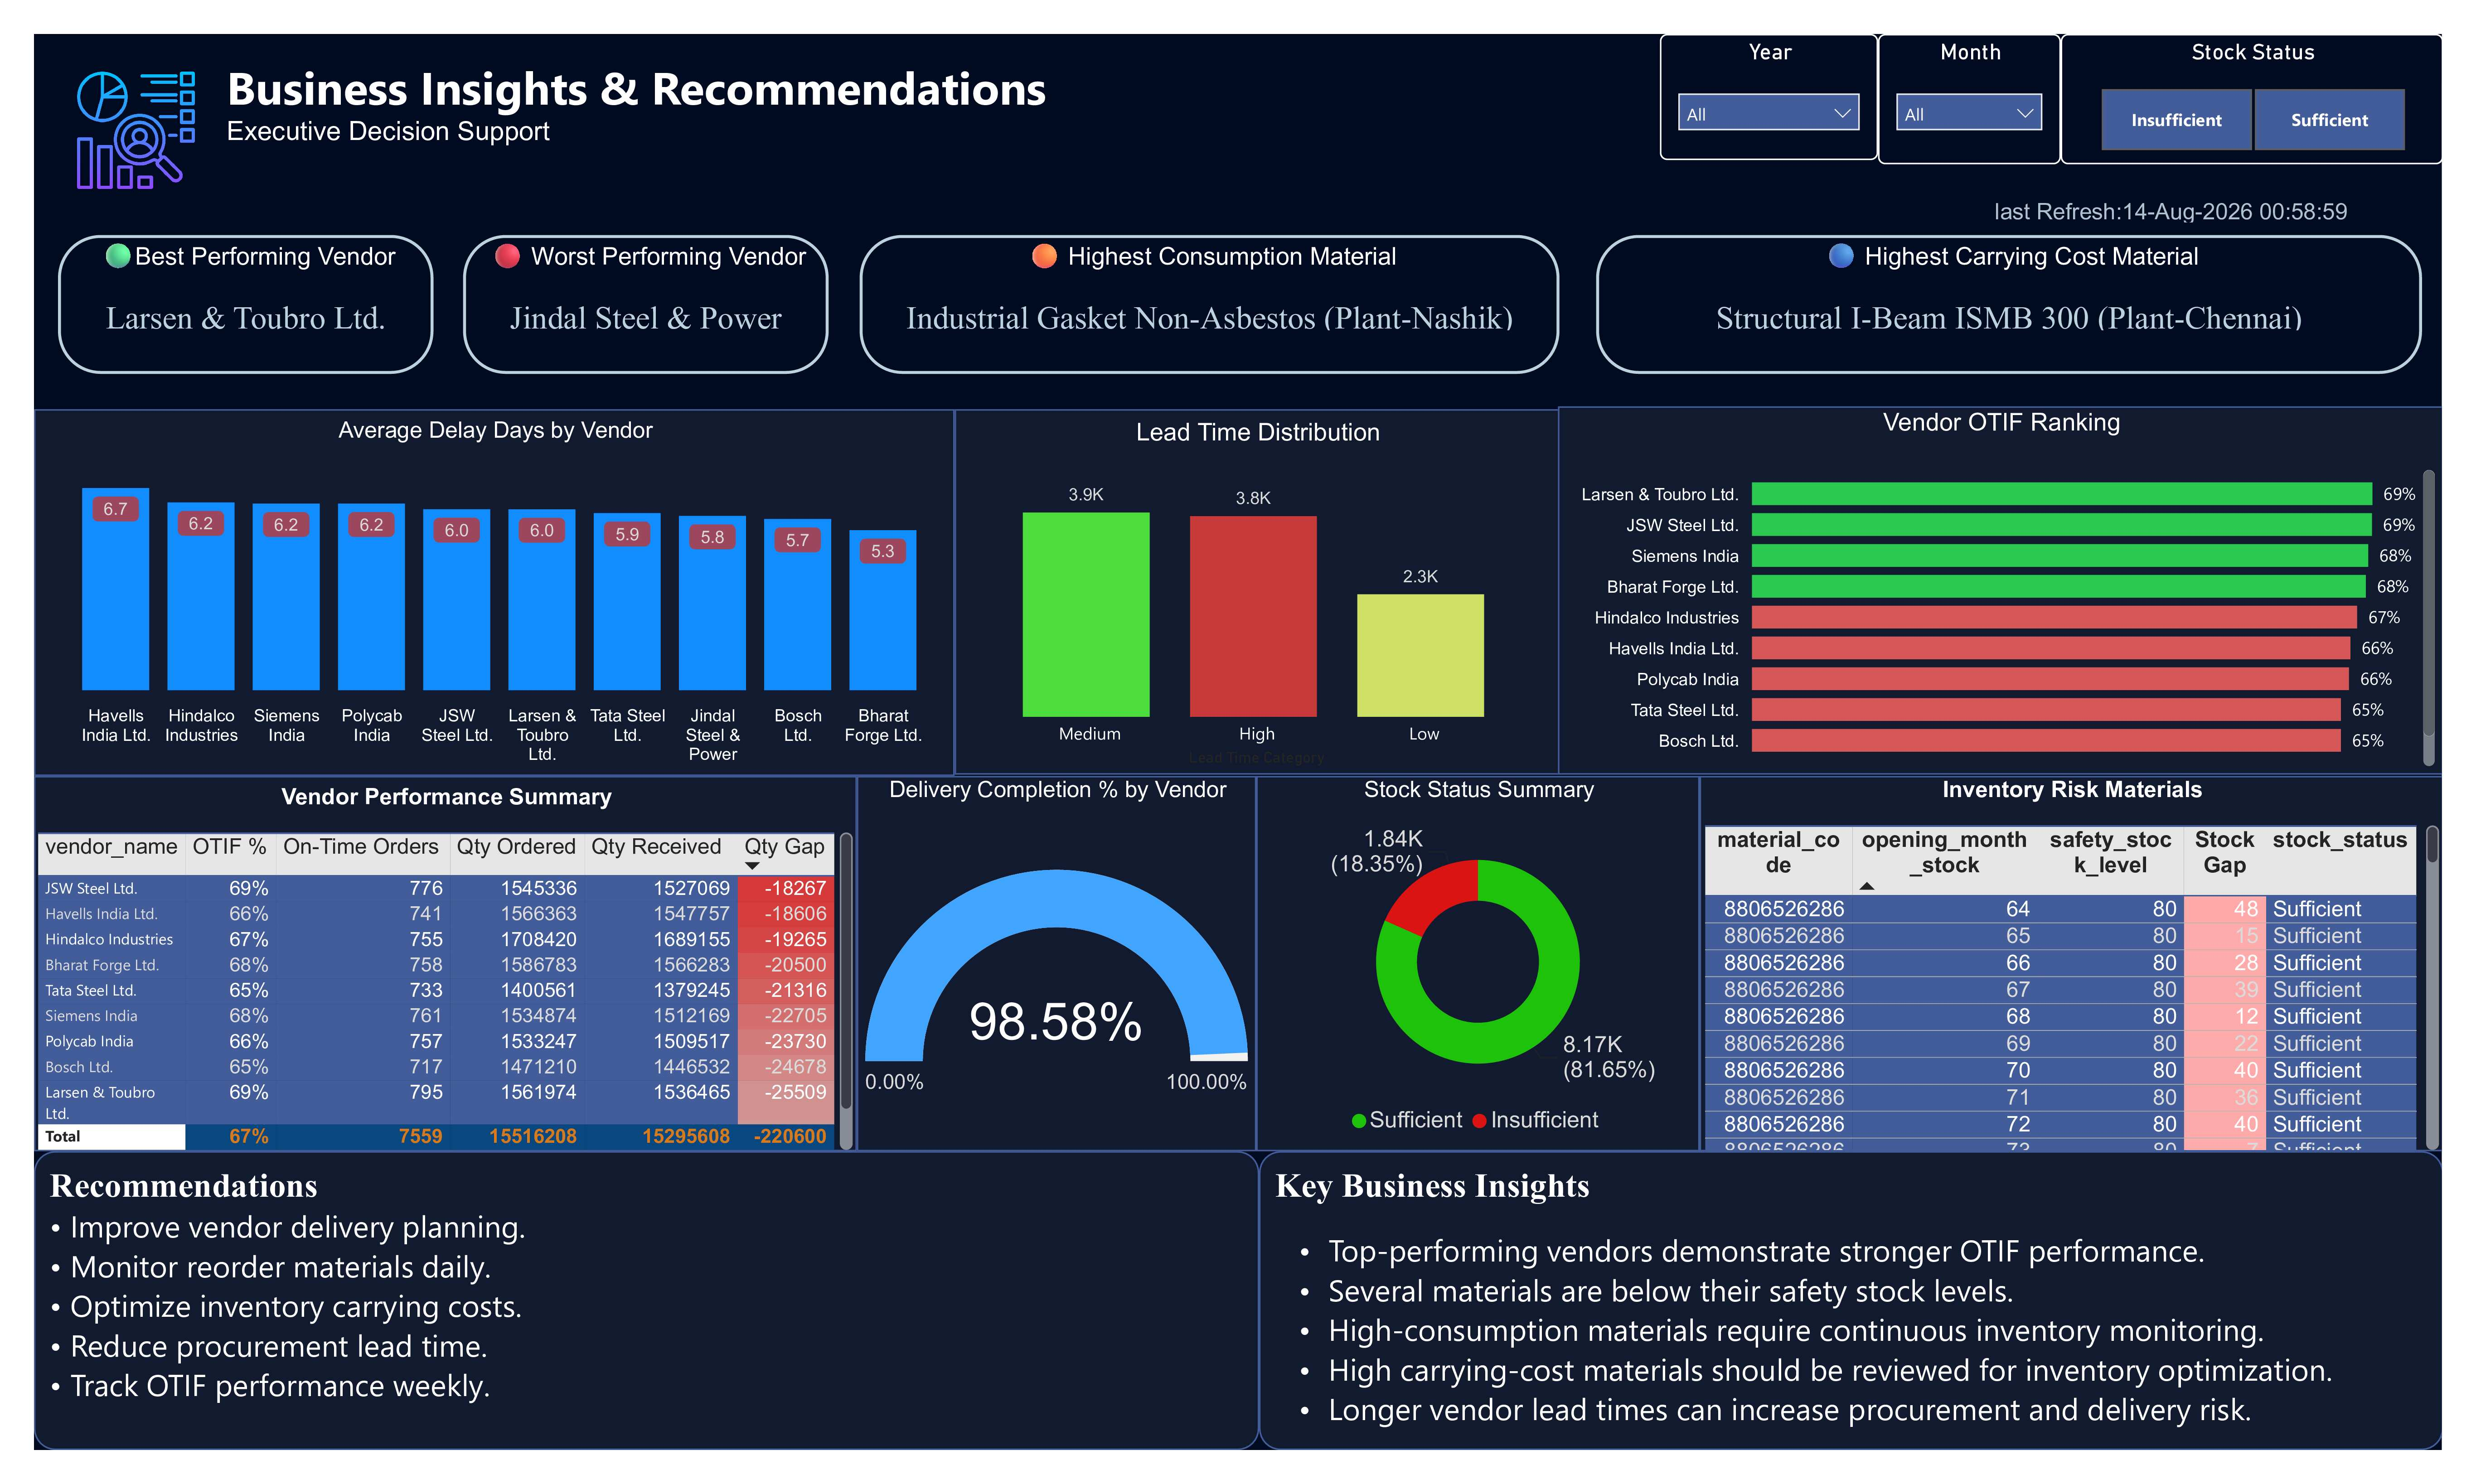

This screenshot's page, from the dashboard's own definition file:
{"tool":"powerbi","page":{"name":"Biz Insights","canvas":[1700,1000],"ordinal":3},"visuals":[{"type":"textbox","box":[130.7,10.1,604.9,85.5],"z":0},{"type":"slicer","title":"Year","fields":{"Values":["Inventory_and_Demand_Forecasting.Inv_Year"]},"box":[1147.8,0,154.2,88.8],"z":1000},{"type":"slicer","title":"Month","fields":{"Values":["Inventory_and_Demand_Forecasting.Inv_Month"]},"box":[1302,0,129,92.2],"z":2000},{"type":"cardVisual","title":"Total Materials","fields":{"Data":["All_Measueres.last Refresh"]},"box":[1317,88.8,383.7,87.1],"z":3000},{"type":"cardVisual","title":"🟢Best Performing Vendor","fields":{"Data":["All_Measueres.Best Performing Vendor"]},"box":[16.8,142.4,264.7,97.2],"z":4000},{"type":"cardVisual","title":"🟠 Highest Consumption Material","fields":{"Data":["All_Measueres.Highest Consumption Material"]},"box":[583.1,142.4,494.3,97.2],"z":5000},{"type":"cardVisual","title":"🔴 Worst Performing Vendor","fields":{"Data":["All_Measueres.Worst Performing Vendor"]},"box":[303.3,142.4,258,97.2],"z":6000},{"type":"cardVisual","title":"🔵 Highest Carrying Cost Material","fields":{"Data":["All_Measueres.Highest Carrying Cost Material"]},"box":[1102.6,142.4,583.1,97.2],"z":7000},{"type":"image","box":[30.2,23.5,83.8,88.8],"z":8000},{"type":"pivotTable","title":"Vendor Performance Summary ","fields":{"Values":["All_Measueres.OTIF %","All_Measueres.On-Time Orders","All_Measueres.Qty Ordered","All_Measueres.Qty Received","All_Measueres.Qty Gap"],"Rows":["Vendor_Delivery_and_OTIF_Analysis.vendor_name"]},"box":[0,524.5,581.4,264.7],"z":9000},{"type":"tableEx","title":"Inventory Risk Materials","fields":{"Values":["Dim_Material.material_code","Inventory_and_Demand_Forecasting.opening_month_stock","Inventory_and_Demand_Forecasting.safety_stock_level","All_Measueres.Stock Gap","Inventory_and_Demand_Forecasting.stock_status"]},"box":[1176.3,524.5,524.5,264.7],"z":10000},{"type":"slicer","title":"Stock Status","fields":{"Values":["Inventory_and_Demand_Forecasting.stock_status"]},"box":[1431,0,269.8,92.2],"z":11000},{"type":"donutChart","title":"Stock Status Summary","fields":{"Category":["Inventory_and_Demand_Forecasting.stock_status"],"Y":["CountNonNull(Inventory_and_Demand_Forecasting.material_code)"]},"box":[862.9,524.5,313.3,264.7],"z":12000},{"type":"textbox","box":[864.6,789.2,836.1,211.1],"z":13000},{"type":"textbox","box":[0,789.2,864.6,211.1],"z":14000},{"type":"clusteredColumnChart","title":"Lead Time Distribution","fields":{"Category":["Inventory_and_Demand_Forecasting.Lead Time Category"],"Y":["CountNonNull(Inventory_and_Demand_Forecasting.material_code)"]},"box":[650.1,264.7,427.3,258],"z":15000},{"type":"clusteredBarChart","title":"Vendor OTIF Ranking","fields":{"Y":["All_Measueres.OTIF %"],"Category":["Vendor_Delivery_and_OTIF_Analysis.vendor_name"]},"box":[1075.7,263.1,625,259.7],"z":16000},{"type":"clusteredColumnChart","title":"Average Delay Days by Vendor","fields":{"Category":["Vendor_Delivery_and_OTIF_Analysis.vendor_name"],"Y":["All_Measueres.Average Delay Days"]},"box":[0,264.7,650.1,259.7],"z":17000},{"type":"gauge","title":"Delivery Completion % by Vendor","fields":{"Y":["All_Measueres.Delivery Completion %"]},"box":[581.4,524.5,281.5,264.7],"z":18000}]}

Visuals, with their boxes on the page's 1700x1000 design canvas (x1, y1, x2, y2). These are canvas units, not pixel positions in the 2476x1484 screenshot, which may show the page scaled, cropped or inside an application window:
textbox: [x1=131, y1=10, x2=736, y2=96]
"Year" slicer: [x1=1148, y1=0, x2=1302, y2=89]
"Month" slicer: [x1=1302, y1=0, x2=1431, y2=92]
"Total Materials" cardVisual: [x1=1317, y1=89, x2=1701, y2=176]
"🟢Best Performing Vendor" cardVisual: [x1=17, y1=142, x2=282, y2=240]
"🟠 Highest Consumption Material" cardVisual: [x1=583, y1=142, x2=1077, y2=240]
"🔴 Worst Performing Vendor" cardVisual: [x1=303, y1=142, x2=561, y2=240]
"🔵 Highest Carrying Cost Material" cardVisual: [x1=1103, y1=142, x2=1686, y2=240]
image: [x1=30, y1=24, x2=114, y2=112]
"Vendor Performance Summary " pivotTable: [x1=0, y1=524, x2=581, y2=789]
"Inventory Risk Materials" tableEx: [x1=1176, y1=524, x2=1701, y2=789]
"Stock Status" slicer: [x1=1431, y1=0, x2=1701, y2=92]
"Stock Status Summary" donutChart: [x1=863, y1=524, x2=1176, y2=789]
textbox: [x1=865, y1=789, x2=1701, y2=1000]
textbox: [x1=0, y1=789, x2=865, y2=1000]
"Lead Time Distribution" clusteredColumnChart: [x1=650, y1=265, x2=1077, y2=523]
"Vendor OTIF Ranking" clusteredBarChart: [x1=1076, y1=263, x2=1701, y2=523]
"Average Delay Days by Vendor" clusteredColumnChart: [x1=0, y1=265, x2=650, y2=524]
"Delivery Completion % by Vendor" gauge: [x1=581, y1=524, x2=863, y2=789]
